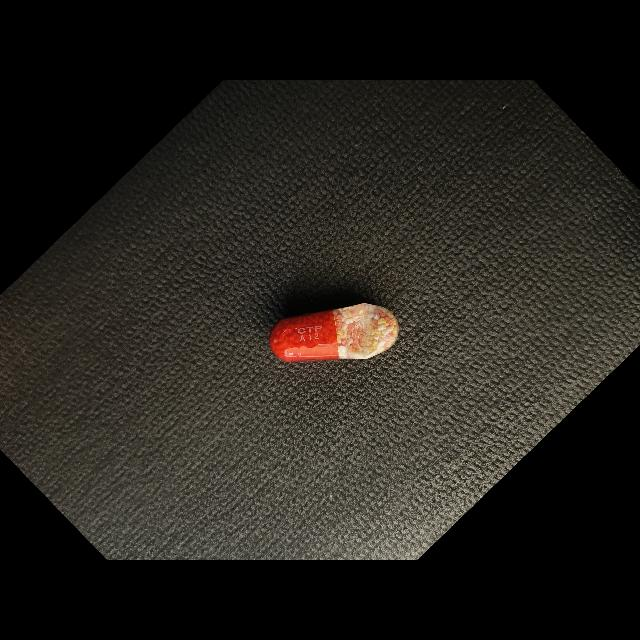Defective Capsule: (270, 303, 399, 361)
